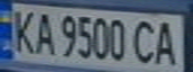0: (90, 14, 112, 61), (109, 16, 130, 63)
5: (75, 12, 93, 60)
9: (54, 11, 78, 58)
A: (151, 17, 184, 66), (30, 8, 57, 56)
C: (130, 17, 160, 65)
K: (6, 6, 39, 55)
